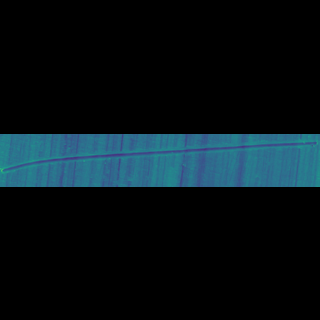Loch: (0, 156, 315, 162)
